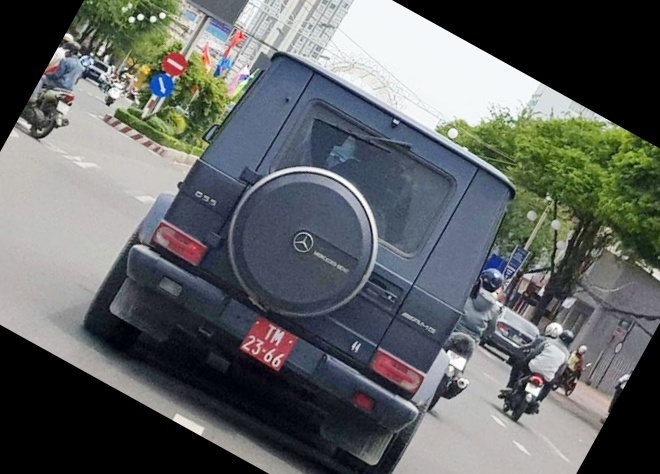plate: (237, 319, 302, 371)
